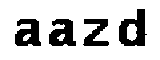a: (12, 17, 45, 49), (46, 16, 78, 49)
d: (117, 7, 152, 51)
z: (81, 18, 114, 50)
